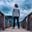face: (12, 1, 21, 9)
